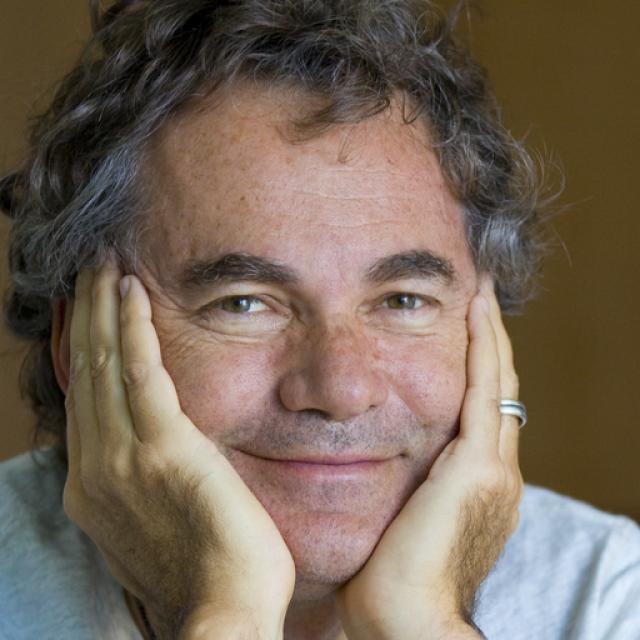Pigmentation: (267, 317, 385, 378)
